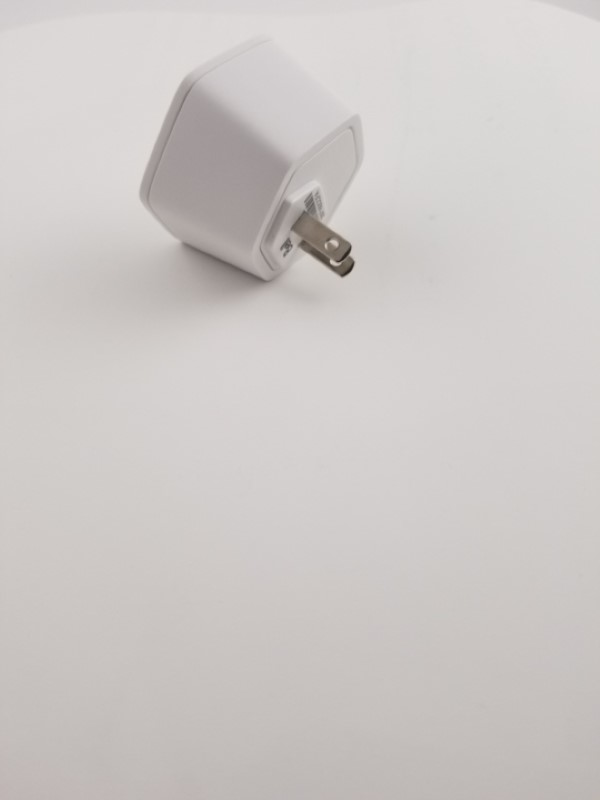pod: (136, 33, 382, 294)
